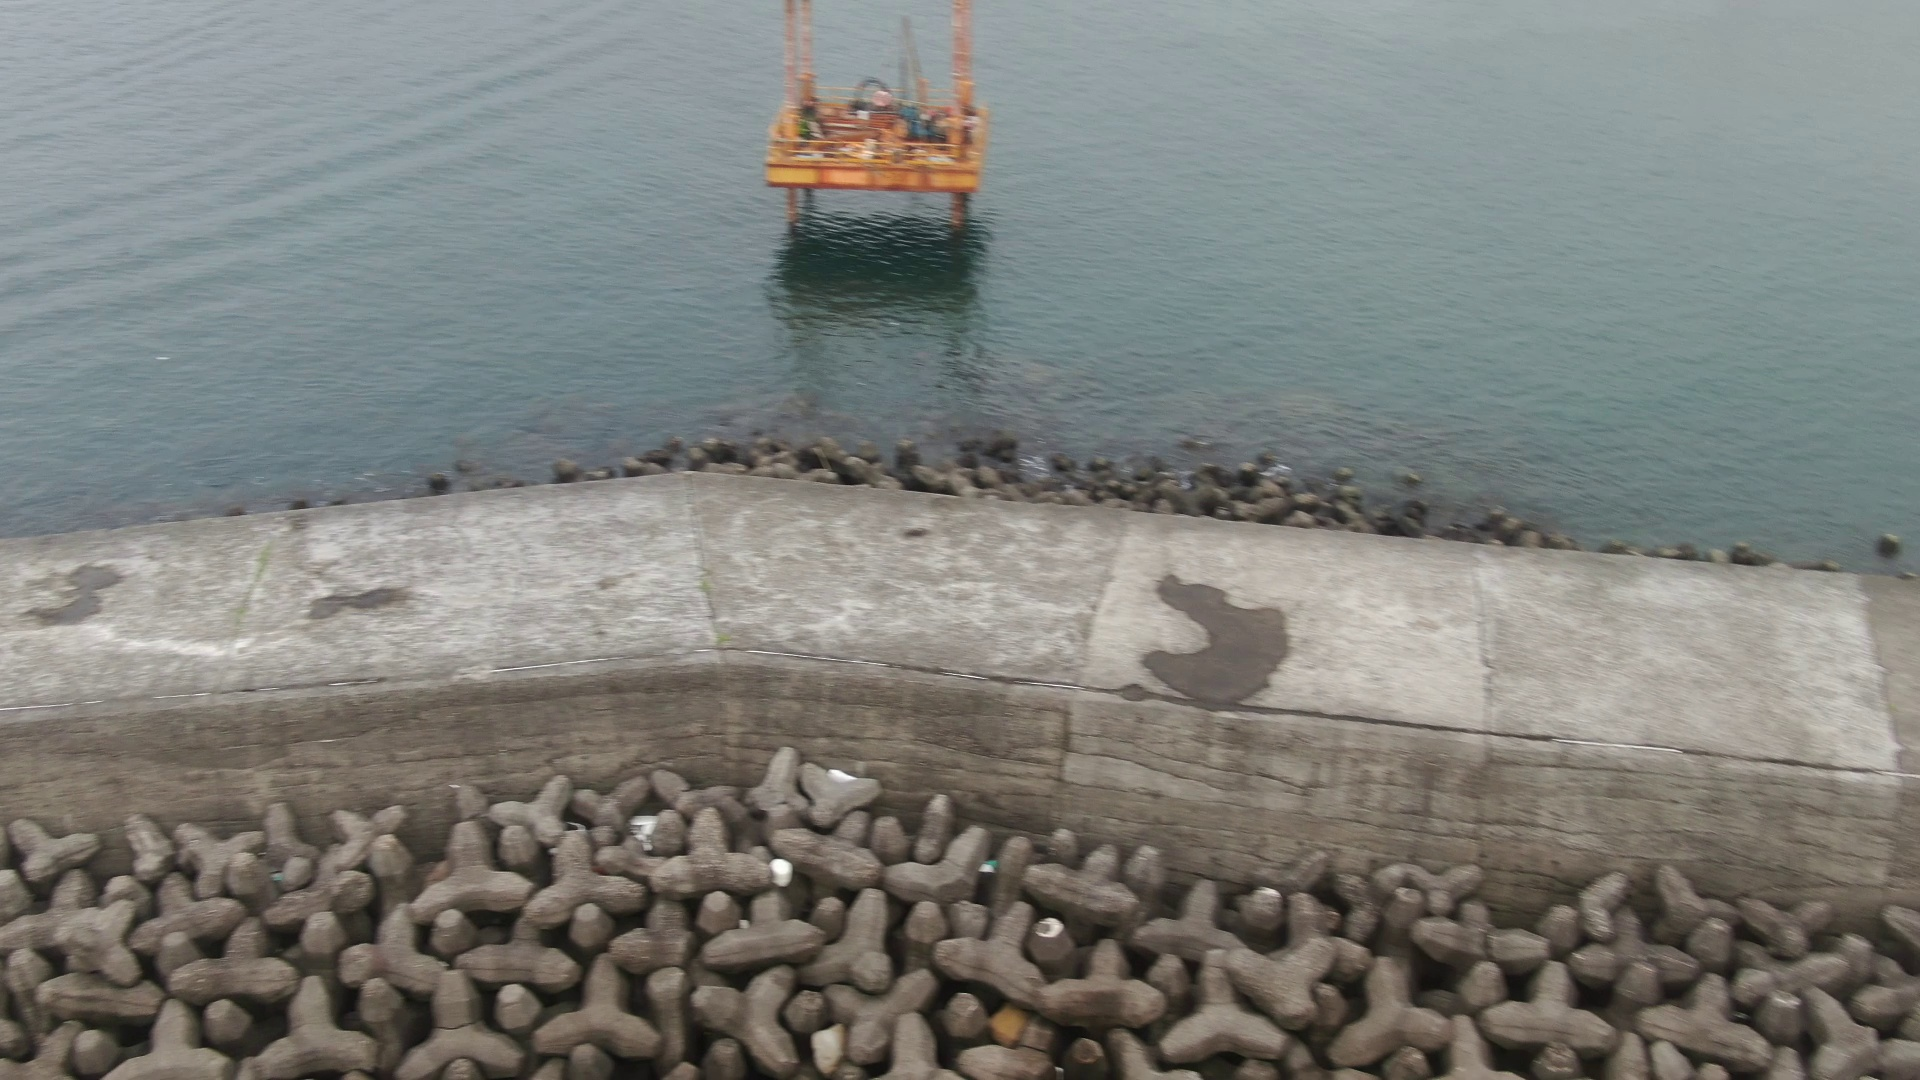garbage: (982, 992, 1044, 1052), (973, 847, 1009, 890)
